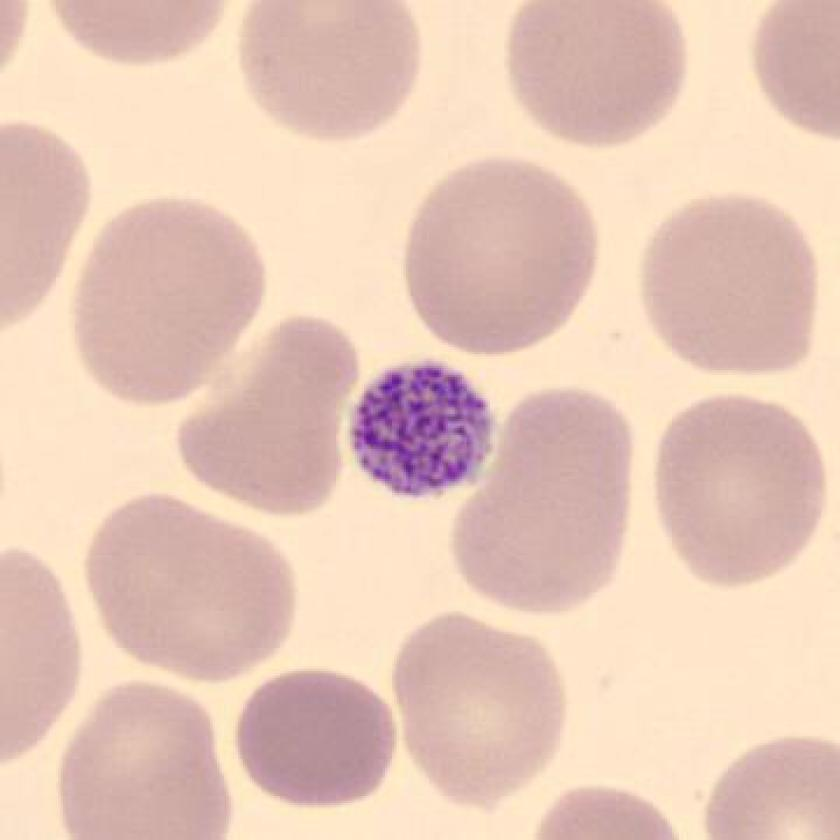platelets: (342, 350, 507, 515)
